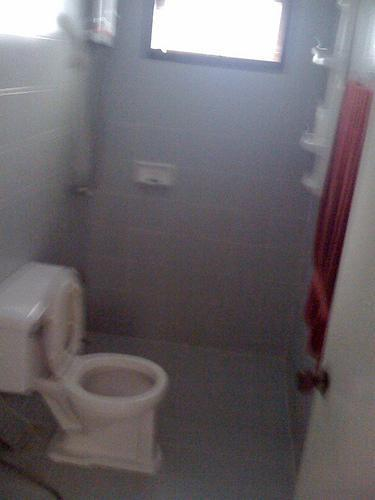Sanitario: (0, 261, 173, 480)
